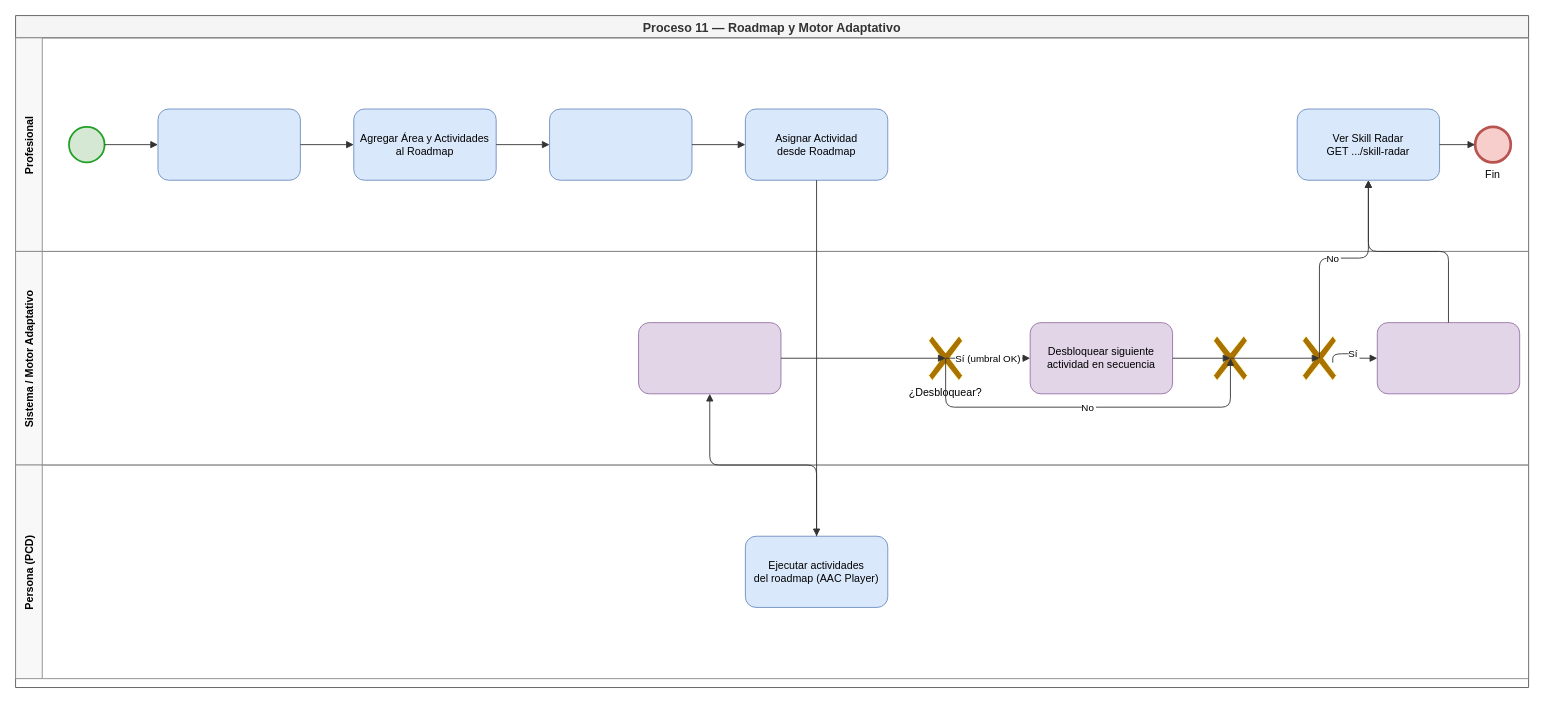
Some shapes in this 1544 by 703 pixel diagram are drawn without their labels. The shapes that lost their labels are listed below. From the top down, each one's centre as x and y in pixels, then its label:
At (x=86, y=144): "Inicio".
At (x=228, y=144): "Crear Roadmap POST .../roadmap".
At (x=620, y=144): "Configurar Motor Adaptativo PUT .../adaptive-config".
At (x=709, y=358): "Al completar: evaluar éxito vs unlockThreshold".
At (x=1319, y=357): "¿Motor activo?".
At (x=1448, y=358): "Ajustar dificultad + registrar AdaptiveAdjustmentLog".
